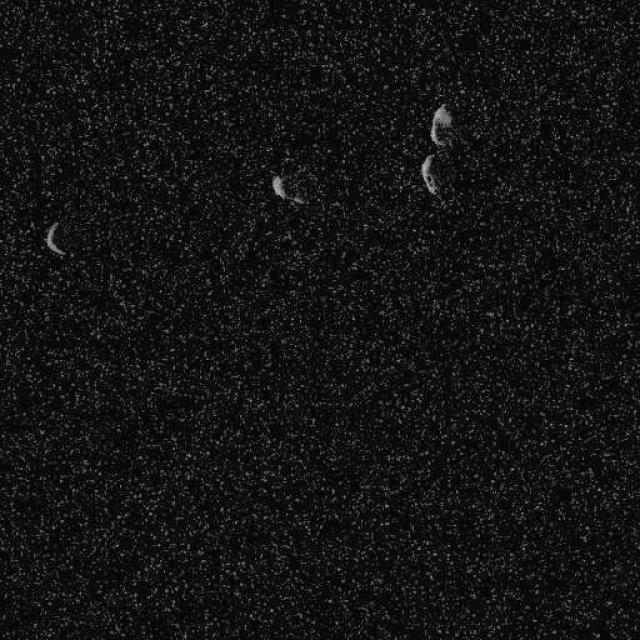D2: (418, 151, 458, 199), (270, 172, 306, 206), (429, 102, 455, 148), (44, 220, 66, 256)
